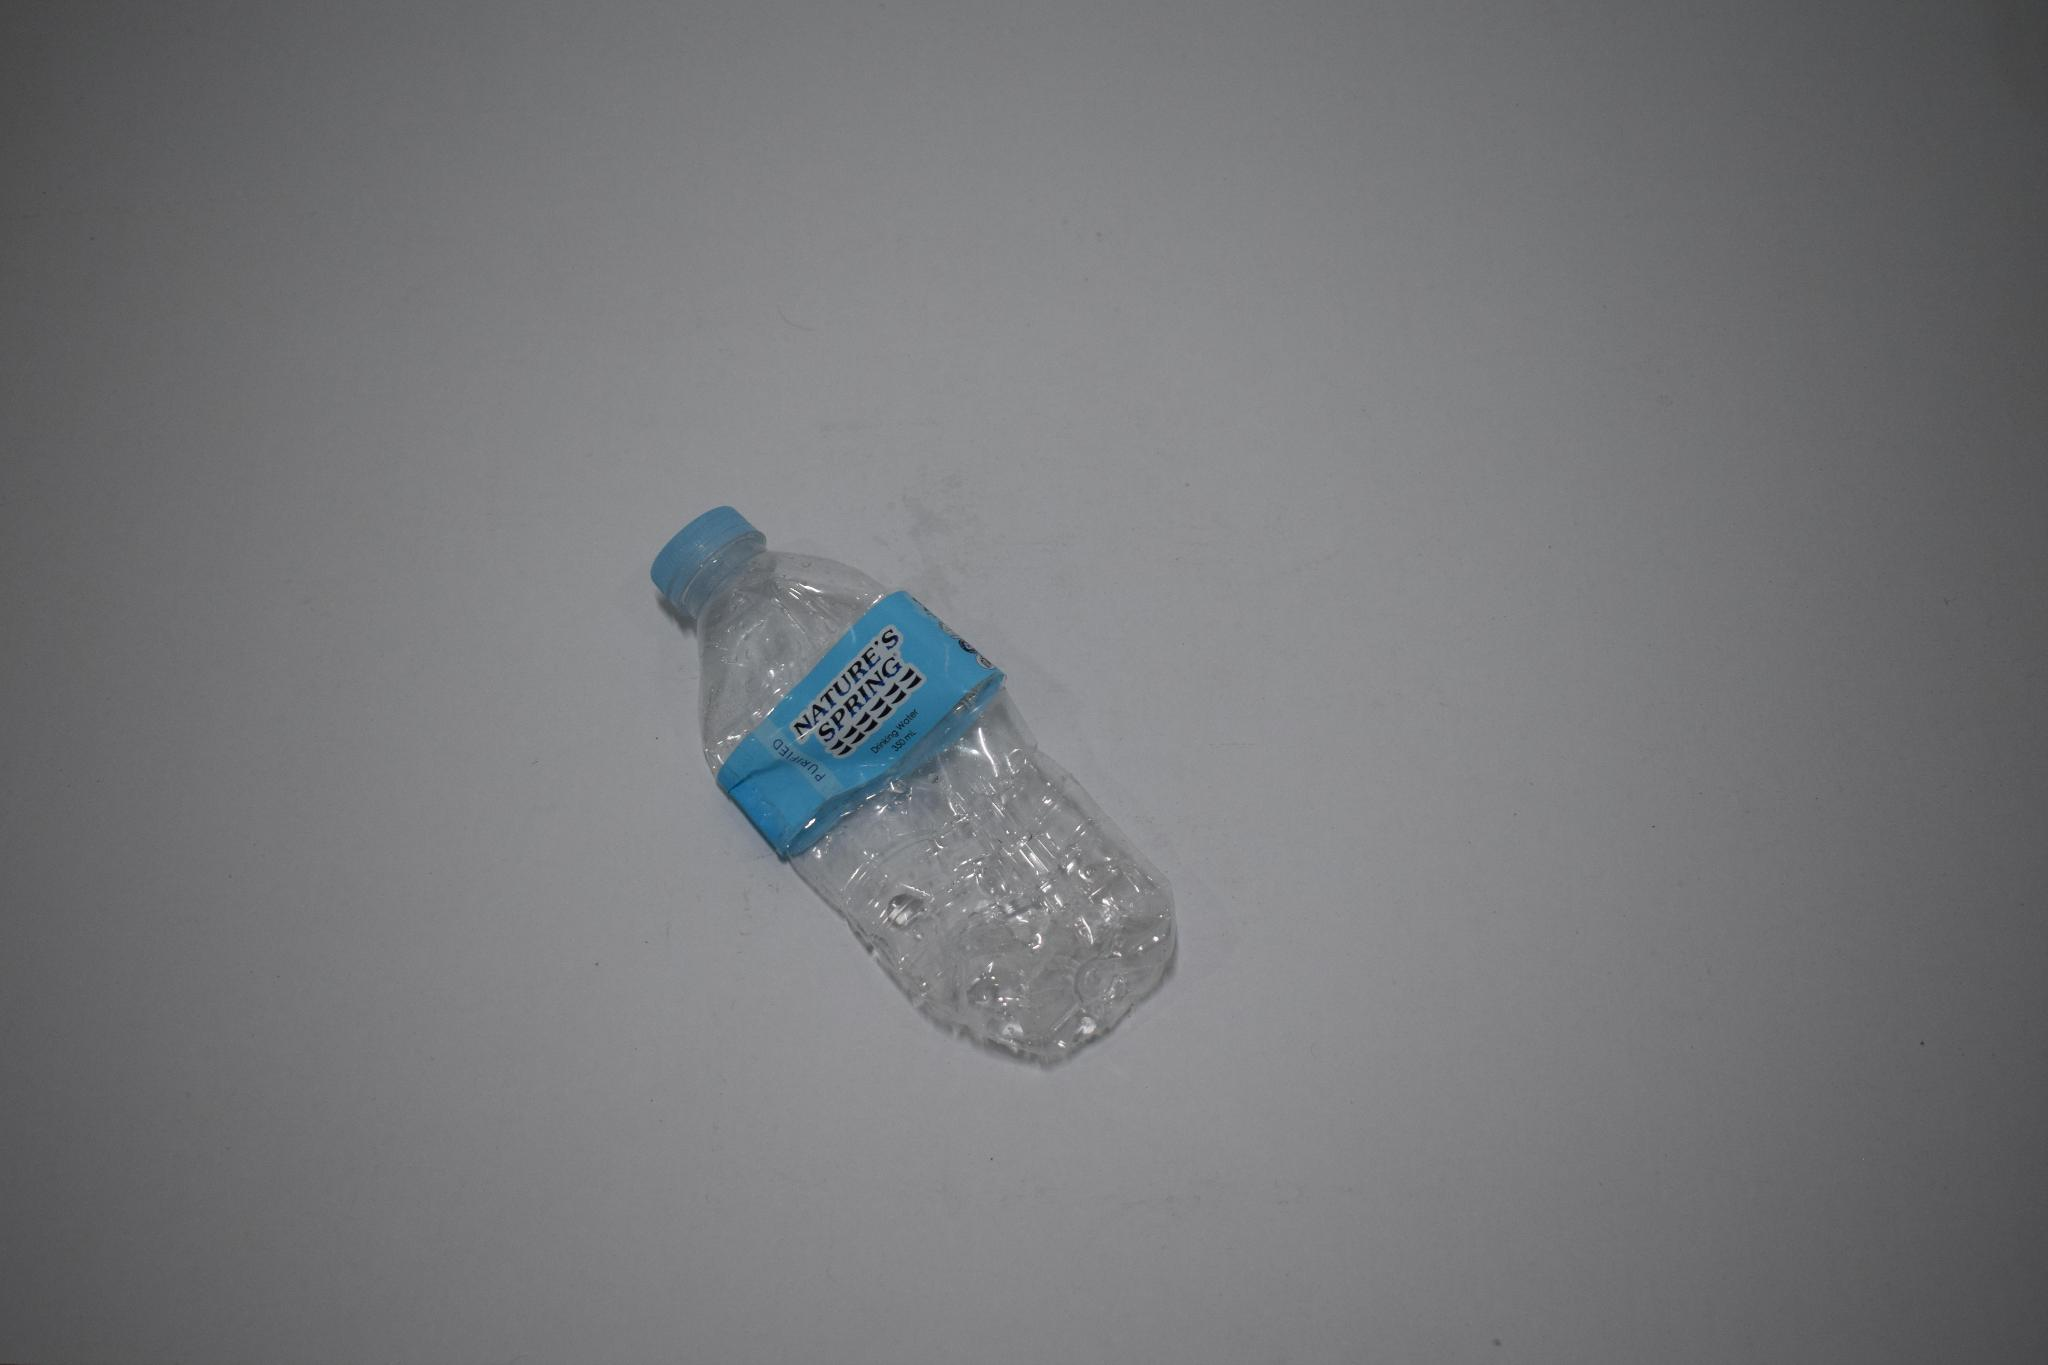bottle: (634, 495, 1220, 1092)
